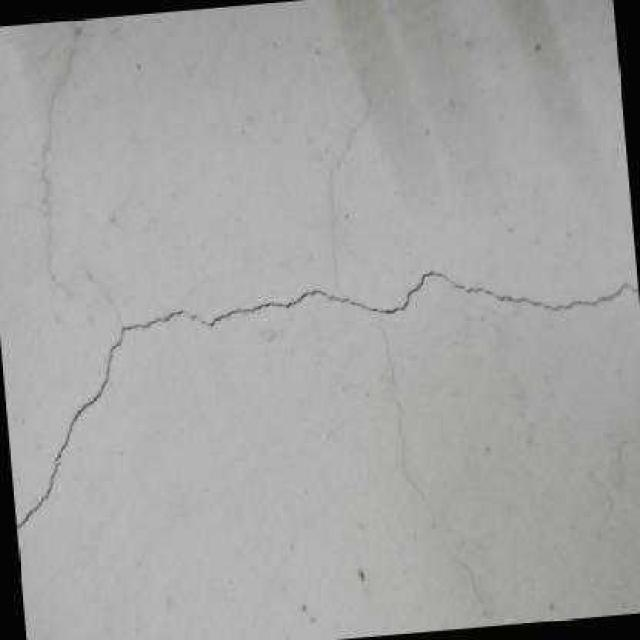D00: (17, 271, 639, 531)
